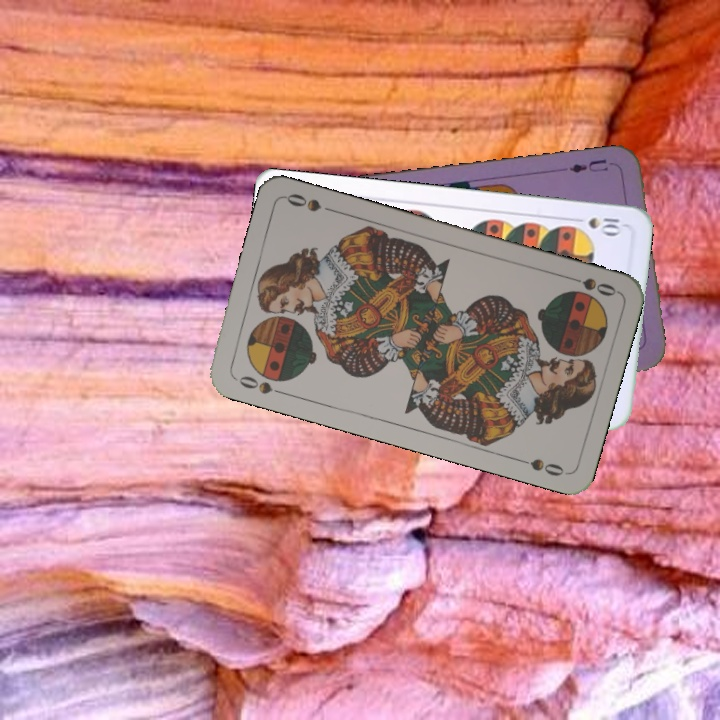EU: (565, 155, 611, 176)
S10: (568, 213, 625, 238)
SO: (561, 271, 619, 299), (231, 371, 289, 398)
